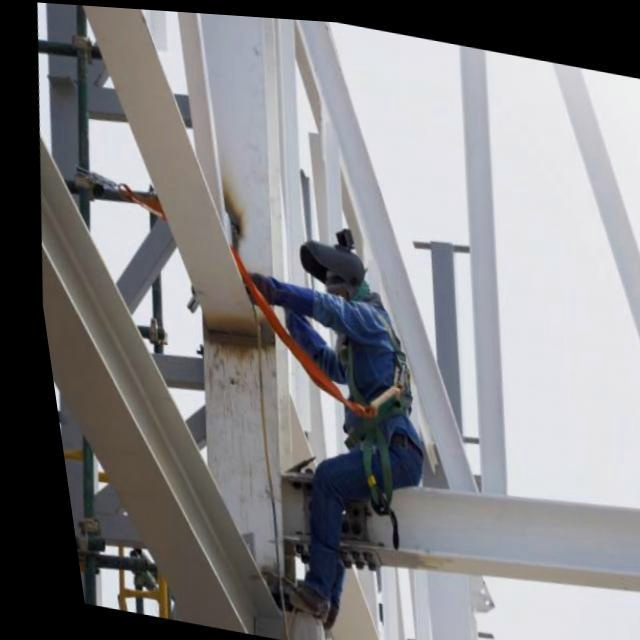safety belt: (321, 290, 438, 489)
